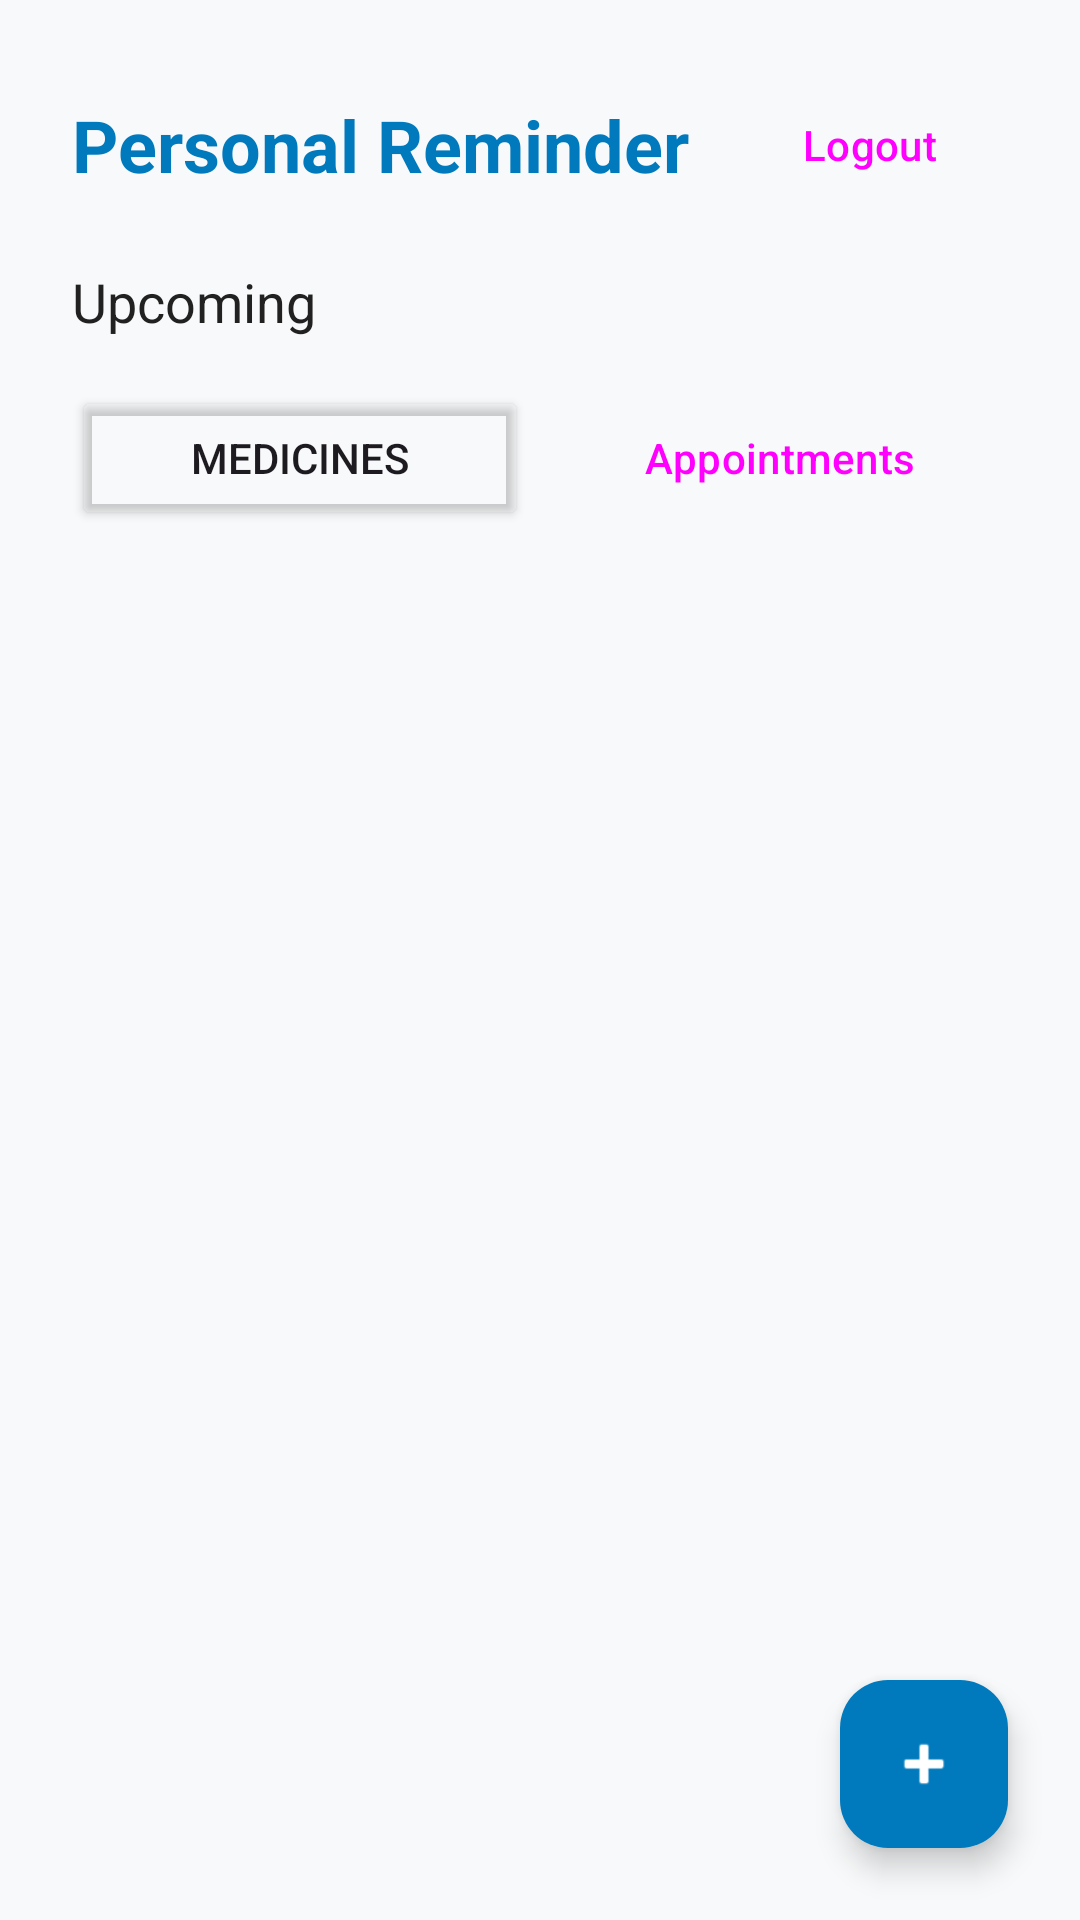

Icons on this 1080 × 1920 Android screen, each with the point to tap as (x,y):
add: (924,1764)
